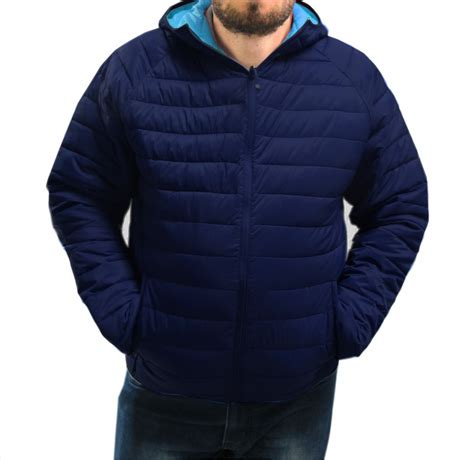nylon: (45, 2, 430, 404)
